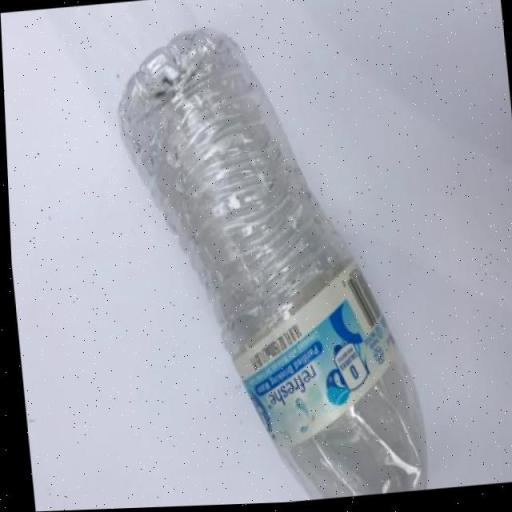plastic: (119, 32, 423, 499)
